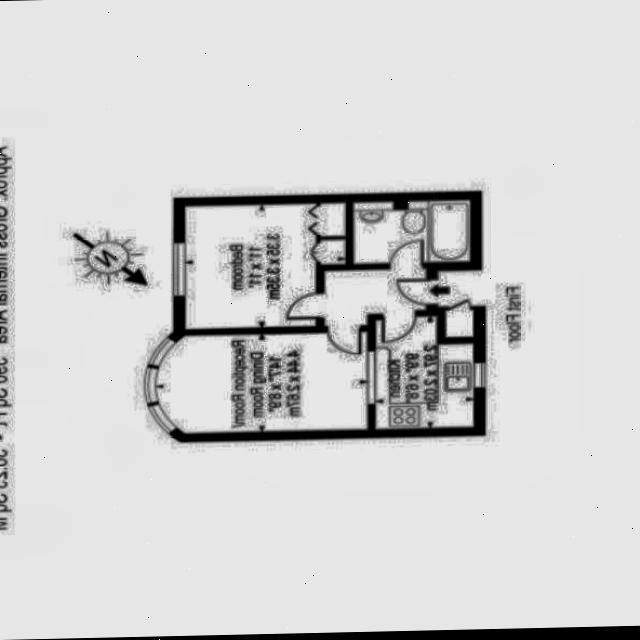room: (156, 331, 369, 432), (182, 201, 349, 328), (375, 315, 474, 429), (352, 199, 472, 264), (323, 268, 428, 325), (444, 308, 475, 336)
